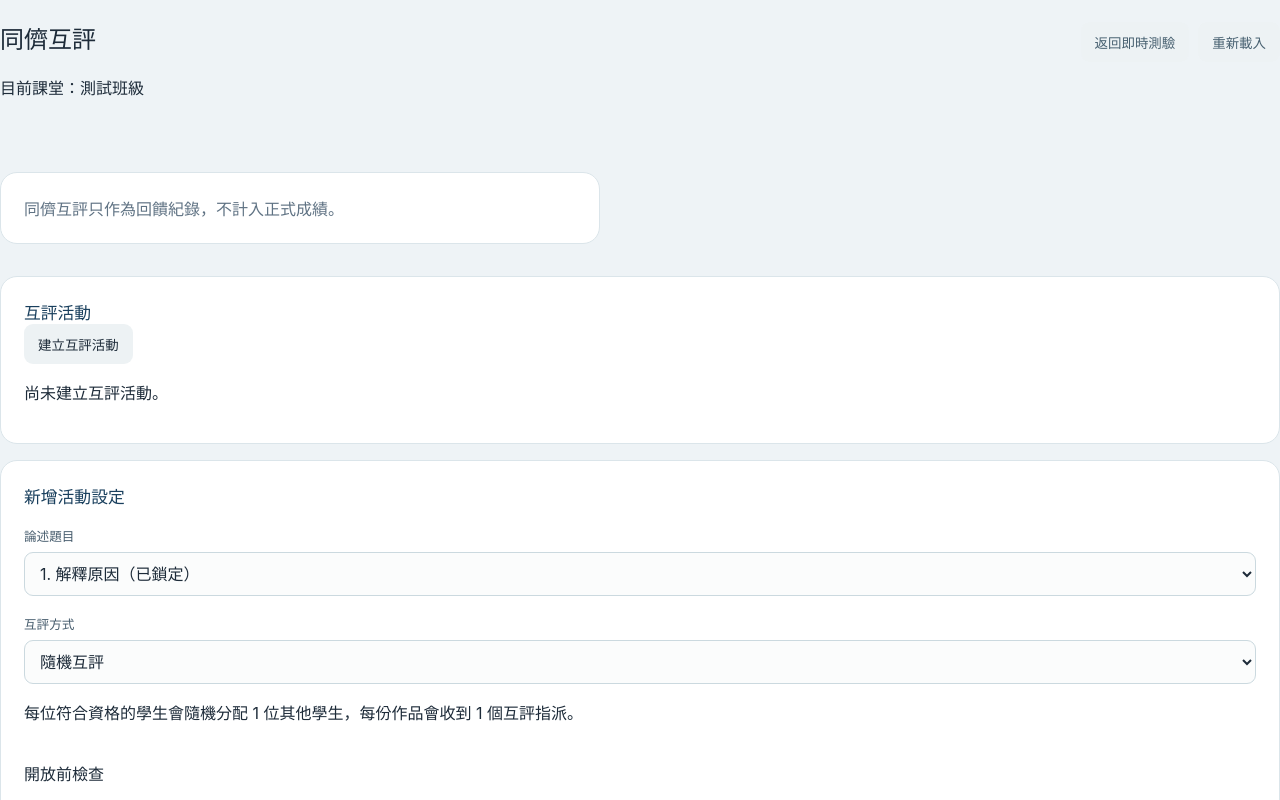
Teacher Peer Review setup › rejects capacity 0 without IPC
Select "學生自行選擇" in the dropdown labelled "互評方式" at (640, 662), box [24,640,1256,684]
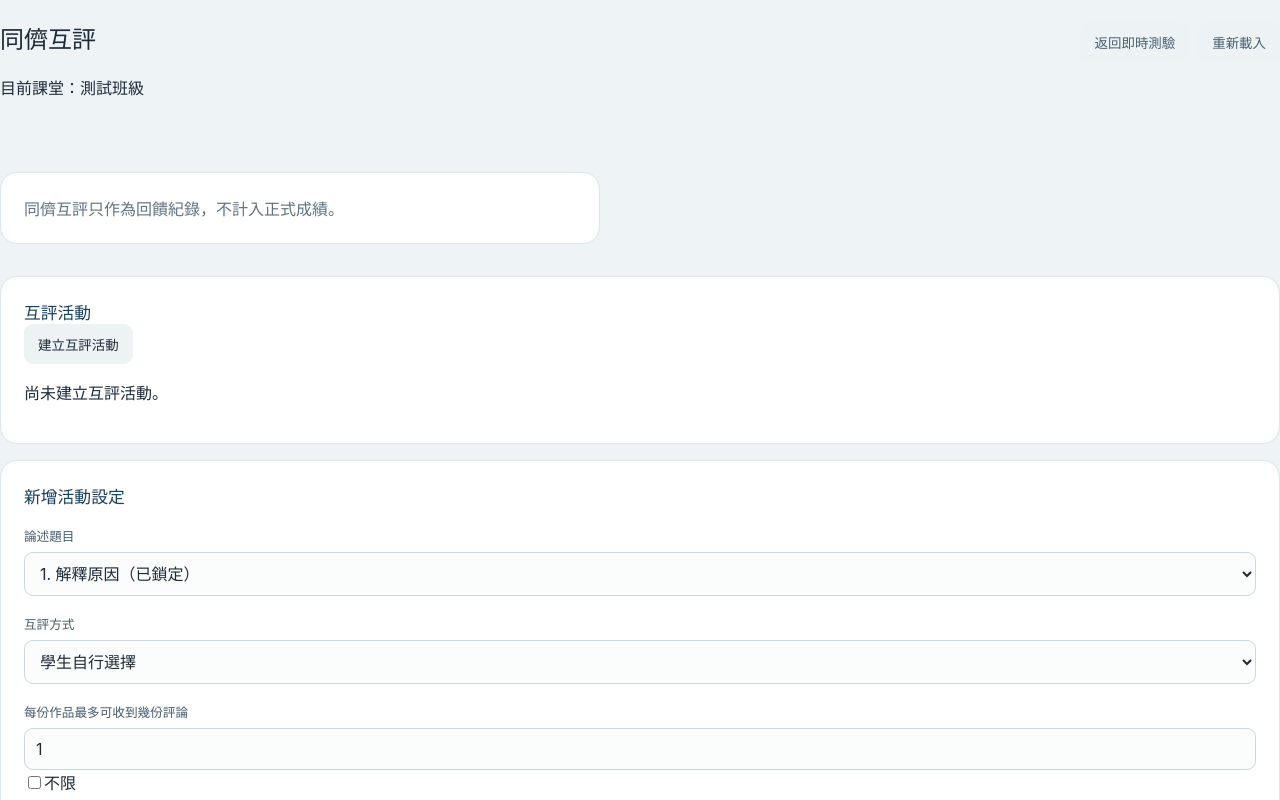
Replace the text in the number field labelled "每份作品最多可收到幾份評論" with "0" at (640, 749), box [24,728,1256,770]
(page scrolled)
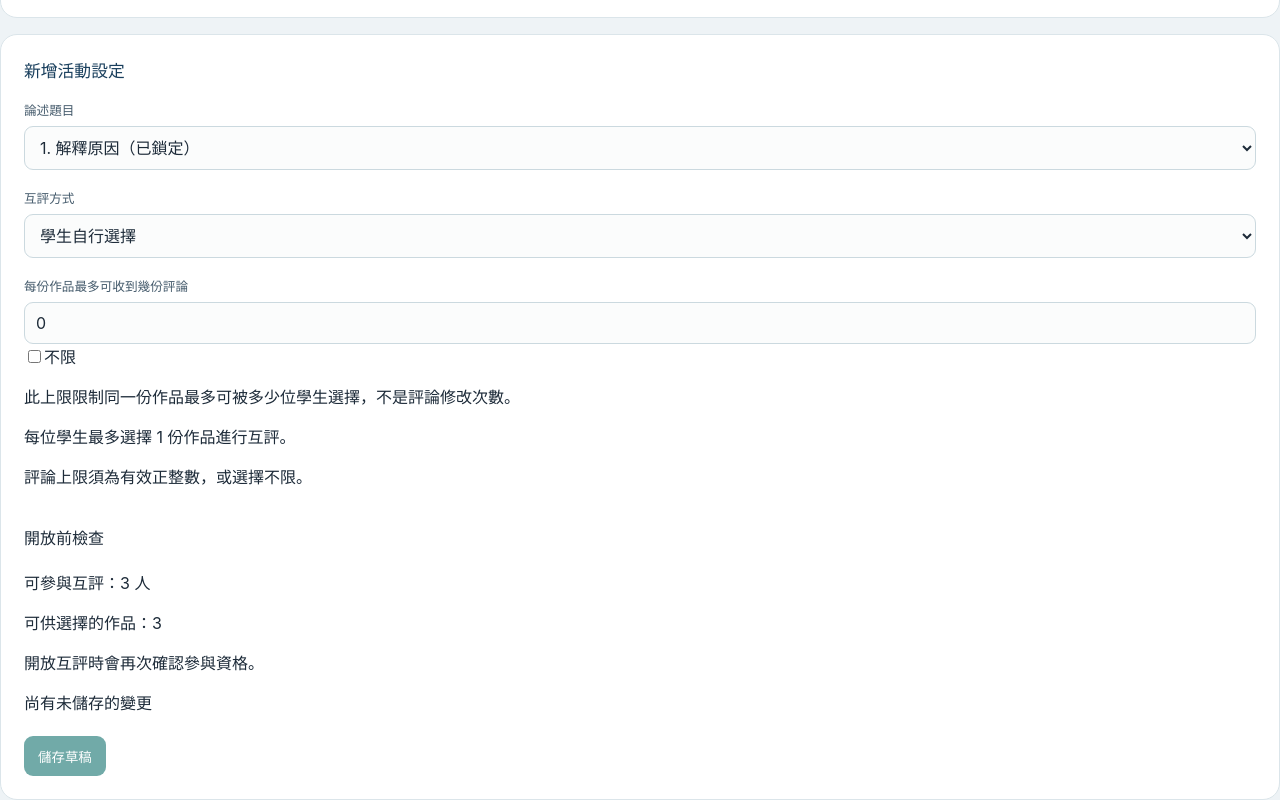
Expected: the button "儲存草稿" is disabled, [24,736,106,776]
